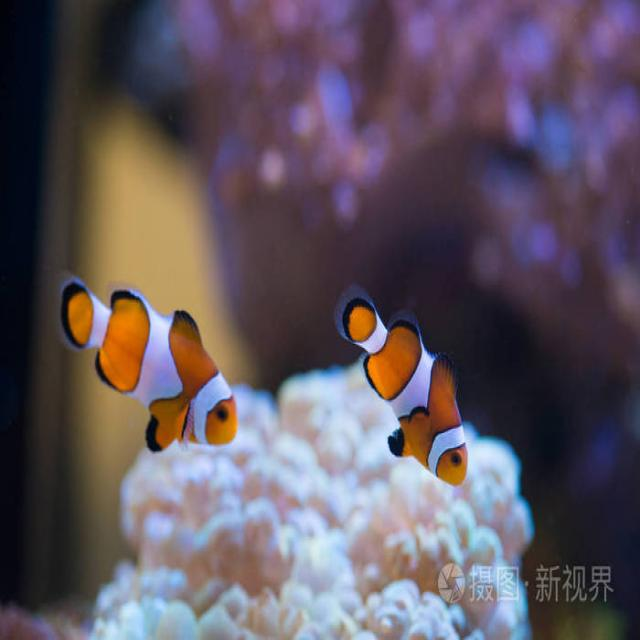ClownFish: (60, 274, 238, 448), (334, 283, 468, 489)
